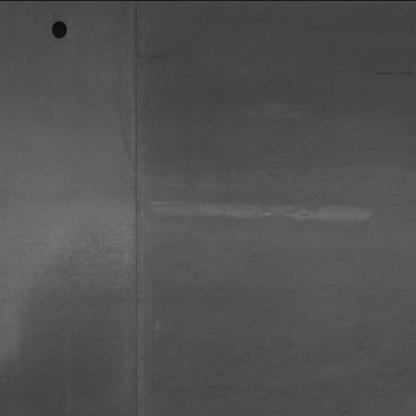punching_hole: (46, 18, 72, 40)
welding_line: (117, 2, 153, 415)
